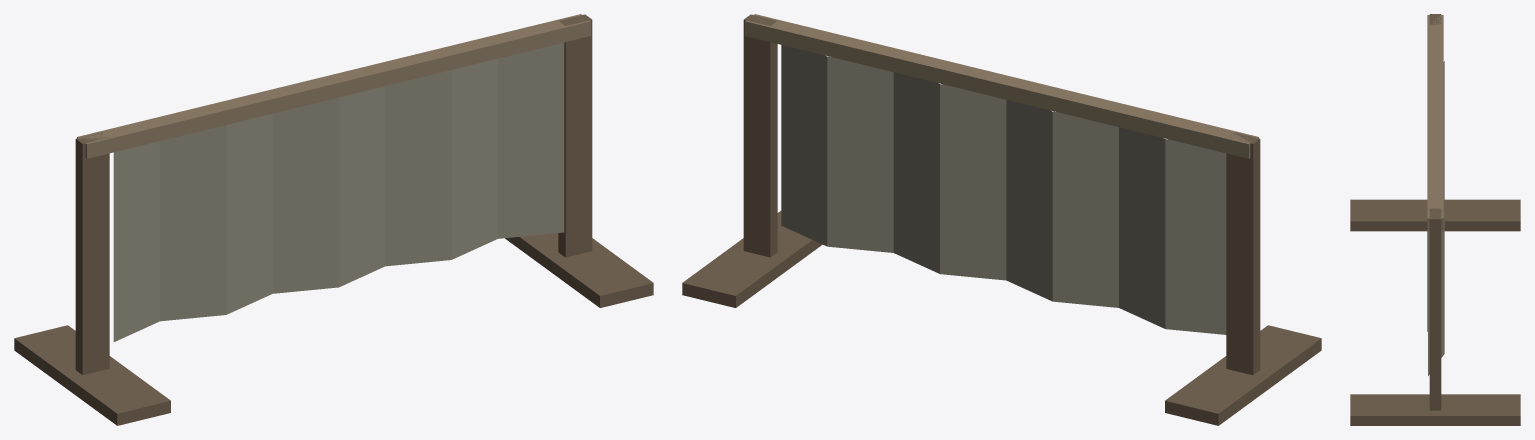
Rendered from blanket_screen.glb.
The picture shows the model from 3 angles, left to right: view 1: azimuth 30°, elevation 25°; view 2: azimuth 150°, elevation 25°; view 3: azimuth 270°, elevation 25°; orthographic projection. The views are drawn at different scales.
Parts seen in each view (by area): view 1: blanket_screen; view 2: blanket_screen; view 3: blanket_screen.
Boxes of the visible parts, x1,y1,x2,y2 form: blanket_screen: (14, 14, 653, 425); blanket_screen: (682, 14, 1321, 425); blanket_screen: (1350, 14, 1520, 425).
Bounding box in the file's own units: 2.88 × 1.25 × 0.96.
